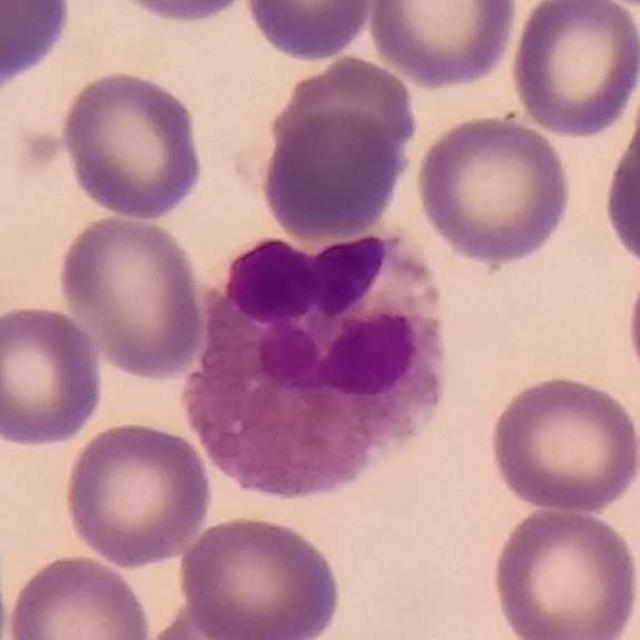Eosinophil: (181, 222, 451, 501)
RBC: (54, 209, 210, 382), (411, 111, 575, 267), (57, 66, 208, 222), (60, 417, 214, 569), (484, 371, 639, 515), (175, 510, 345, 640), (486, 502, 640, 640), (258, 105, 409, 242), (267, 53, 420, 176), (506, 0, 639, 140), (0, 299, 108, 450), (364, 0, 521, 90), (2, 550, 157, 640), (241, 0, 379, 63), (599, 77, 640, 275), (0, 0, 76, 95), (138, 600, 293, 640), (98, 0, 263, 27)
